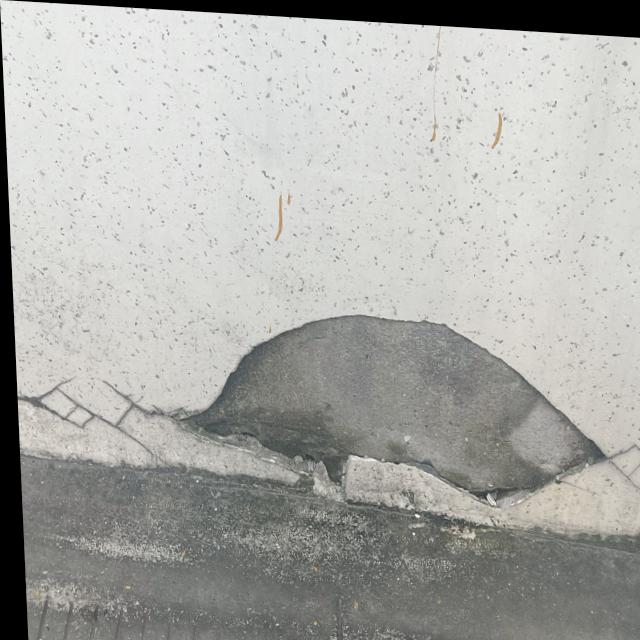crack: (17, 368, 151, 462)
spalling: (146, 275, 640, 508)
